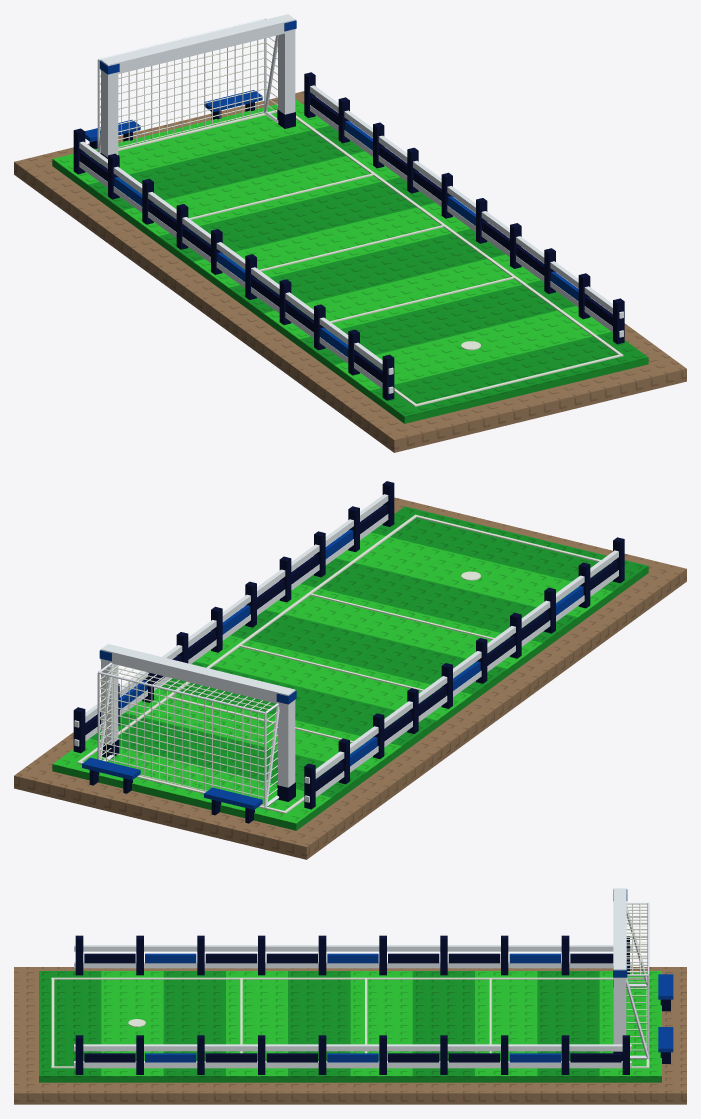
The model's file is club-field.fbx.
3 renders of one model, top to bottom at view 1: azimuth 30°, elevation 25°; view 2: azimuth 150°, elevation 25°; view 3: azimuth 270°, elevation 25°, orthographic. The views are drawn at different scales.
Parts seen in each view (by area): view 1: CF_Grass_Stripes, CF_Earth_Base, CF_Steel_Rails, CF_Fence_Posts, CF_Steel_Goal, CF_Grass_Bed, CF_Goal_Net, CF_White_Markings, CF_Net_Rear_Frame; view 2: CF_Grass_Stripes, CF_Earth_Base, CF_Steel_Rails, CF_Fence_Posts, CF_Goal_Net, CF_Steel_Goal, CF_Grass_Bed, CF_White_Markings, CF_Net_Rear_Frame, CF_Goal_Supports, CF_Bench_Seat, CF_Bench_Seat.001; view 3: CF_Grass_Stripes, CF_Earth_Base, CF_Steel_Rails, CF_Fence_Posts, CF_Grass_Bed, CF_White_Markings, CF_Steel_Goal, CF_Goal_Net, CF_Goal_Supports, CF_Net_Rear_Frame, CF_Sideline_Panel.002, CF_Sideline_Panel.006 (+18 smaller).
Part boxes in pixels (x1,y1,x2,y2): CF_Grass_Stripes: (53, 99, 647, 416); CF_Earth_Base: (14, 91, 686, 452); CF_Steel_Rails: (79, 85, 623, 393); CF_Fence_Posts: (73, 72, 624, 400); CF_Steel_Goal: (100, 14, 295, 157); CF_Grass_Bed: (52, 159, 648, 423); CF_Goal_Net: (99, 37, 277, 147); CF_White_Markings: (90, 110, 623, 406); CF_Net_Rear_Frame: (97, 18, 266, 149); CF_Grass_Stripes: (53, 506, 647, 823); CF_Earth_Base: (14, 497, 686, 859); CF_Steel_Rails: (74, 494, 618, 802); CF_Fence_Posts: (73, 481, 624, 809); CF_Goal_Net: (99, 665, 277, 805); CF_Steel_Goal: (100, 644, 295, 787); CF_Grass_Bed: (52, 566, 648, 830); CF_White_Markings: (77, 514, 610, 813); CF_Net_Rear_Frame: (97, 662, 278, 807); CF_Goal_Supports: (100, 664, 279, 806); CF_Bench_Seat: (204, 787, 262, 809); CF_Bench_Seat.001: (82, 757, 140, 779); CF_Grass_Stripes: (39, 971, 661, 1076); CF_Earth_Base: (14, 967, 686, 1104); CF_Steel_Rails: (74, 945, 631, 1067); CF_Fence_Posts: (75, 935, 629, 1074); CF_Grass_Bed: (39, 971, 661, 1082); CF_White_Markings: (51, 977, 649, 1068); CF_Steel_Goal: (613, 888, 626, 1051); CF_Goal_Net: (626, 903, 647, 1050); CF_Goal_Supports: (626, 905, 649, 1059); CF_Net_Rear_Frame: (626, 902, 649, 1058); CF_Sideline_Panel.002: (205, 953, 257, 963); CF_Sideline_Panel.006: (448, 953, 500, 963).
Bounding box in the file's own units: 960 × 398 × 2160.
7 materials, 7 textured.
